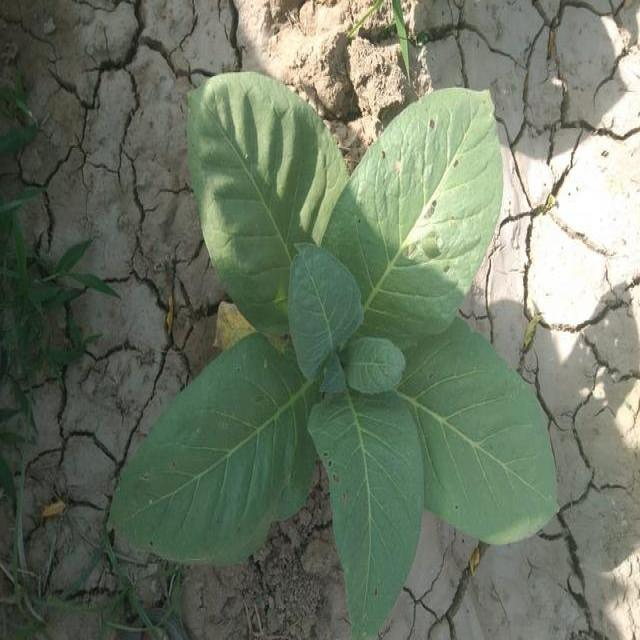crop: (118, 69, 559, 640)
